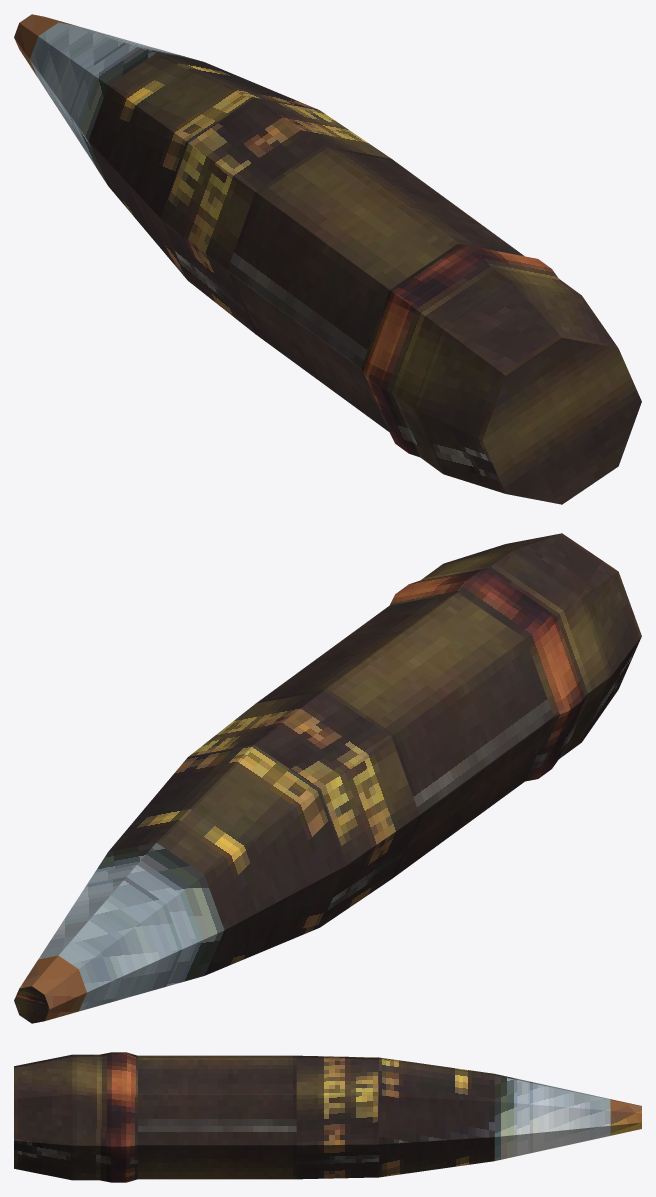
File: bullet.glb
3 views of the same model, one above another, from view 1: azimuth 30°, elevation 25°; view 2: azimuth 150°, elevation 25°; view 3: azimuth 270°, elevation 25° (orthographic). The views are drawn at different scales.
Visible parts, largest first — view 1: Cylinder; view 2: Cylinder; view 3: Cylinder.
Boxes of the visible parts, left/top/right/bottom form: Cylinder: left=14, top=14, right=641, bottom=504; Cylinder: left=14, top=533, right=641, bottom=1023; Cylinder: left=14, top=1052, right=641, bottom=1182.
Size of the model in its own units: 0.383 by 0.383 by 1.74.
Materials: 1 (1 with a texture image).
